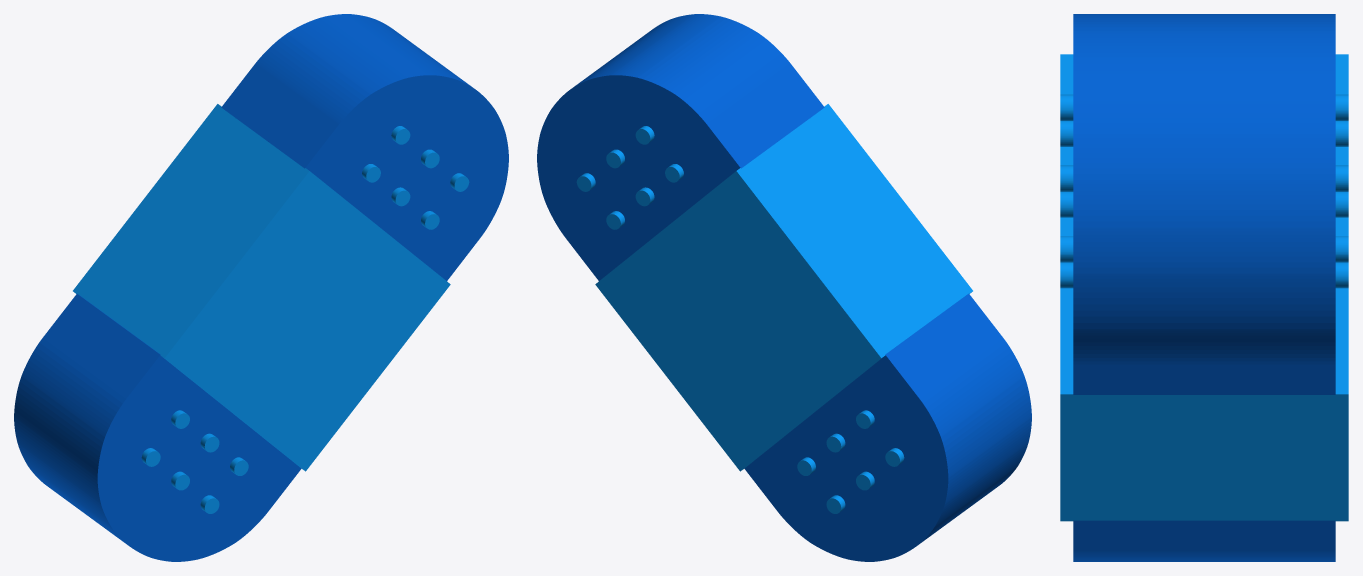
3 views of the same model, side by side, from view 1: azimuth 30°, elevation 25°; view 2: azimuth 150°, elevation 25°; view 3: azimuth 270°, elevation 25° (orthographic). The views are drawn at different scales.
Visible parts, largest first — view 1: U+1FA79_layer00_obj00, U+1FA79_layer01_obj00; view 2: U+1FA79_layer00_obj00, U+1FA79_layer01_obj00; view 3: U+1FA79_layer00_obj00, U+1FA79_layer01_obj00.
Boxes of the visible parts, box(x1,y1,x2,y2) form: U+1FA79_layer00_obj00: box(14, 14, 508, 561); U+1FA79_layer01_obj00: box(73, 104, 469, 513); U+1FA79_layer00_obj00: box(537, 14, 1031, 561); U+1FA79_layer01_obj00: box(576, 104, 972, 513); U+1FA79_layer00_obj00: box(1073, 14, 1335, 561); U+1FA79_layer01_obj00: box(1060, 54, 1348, 521).
Bounding box in the file's own units: 0.5681 × 0.568 × 0.22.
